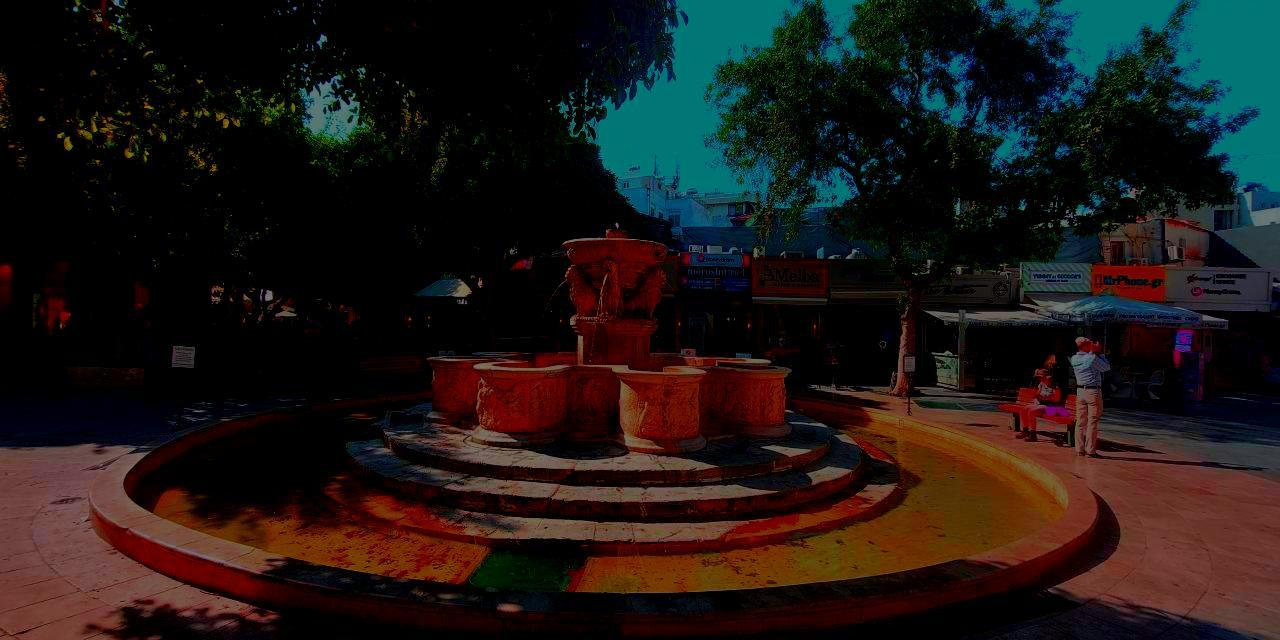Liontaria: (432, 233, 794, 454)
